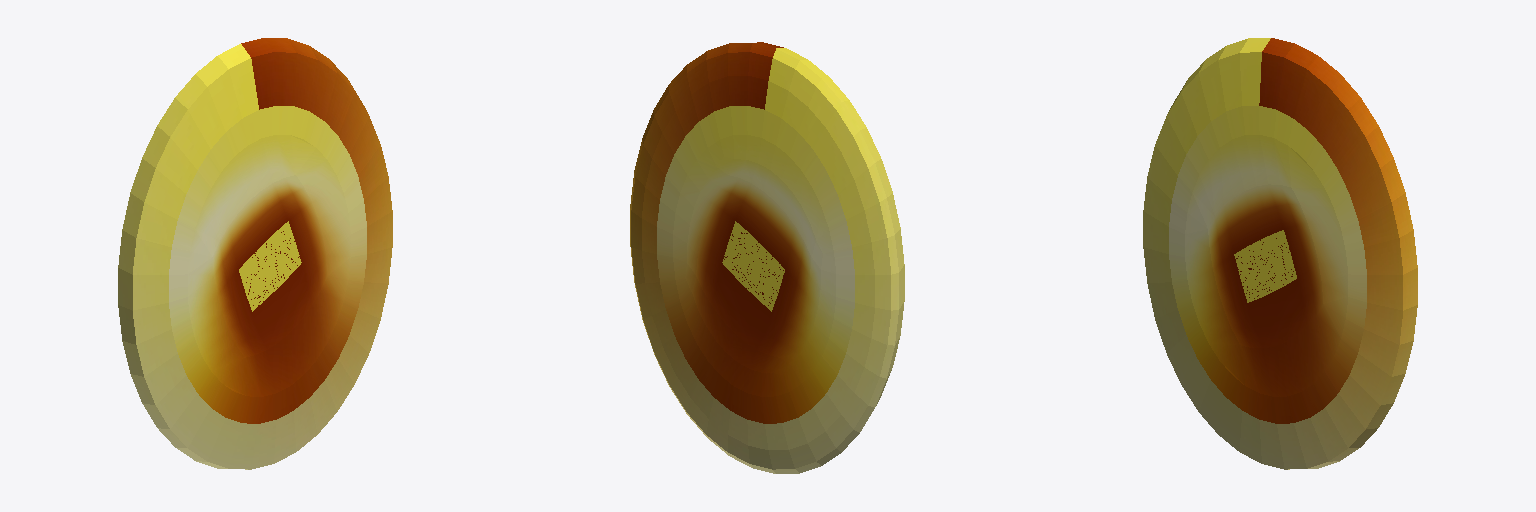
3 views of the same model, side by side, from view 1: azimuth 30°, elevation 25°; view 2: azimuth 150°, elevation 25°; view 3: azimuth 330°, elevation 25° (orthographic).
Visible parts, largest first — view 1: polySurface34 polySurface2; view 2: polySurface34 polySurface2; view 3: polySurface34 polySurface2.
Part boxes in pixels (bbox=[...]): polySurface34 polySurface2: bbox=[118, 38, 392, 469]; polySurface34 polySurface2: bbox=[630, 42, 904, 473]; polySurface34 polySurface2: bbox=[1143, 38, 1417, 469].
Size of the model in its own units: 0.2491 by 0.3771 by 0.0457.
1 materials, 1 textured.